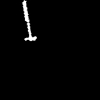half_double_crochet: (23, 1, 36, 40)
